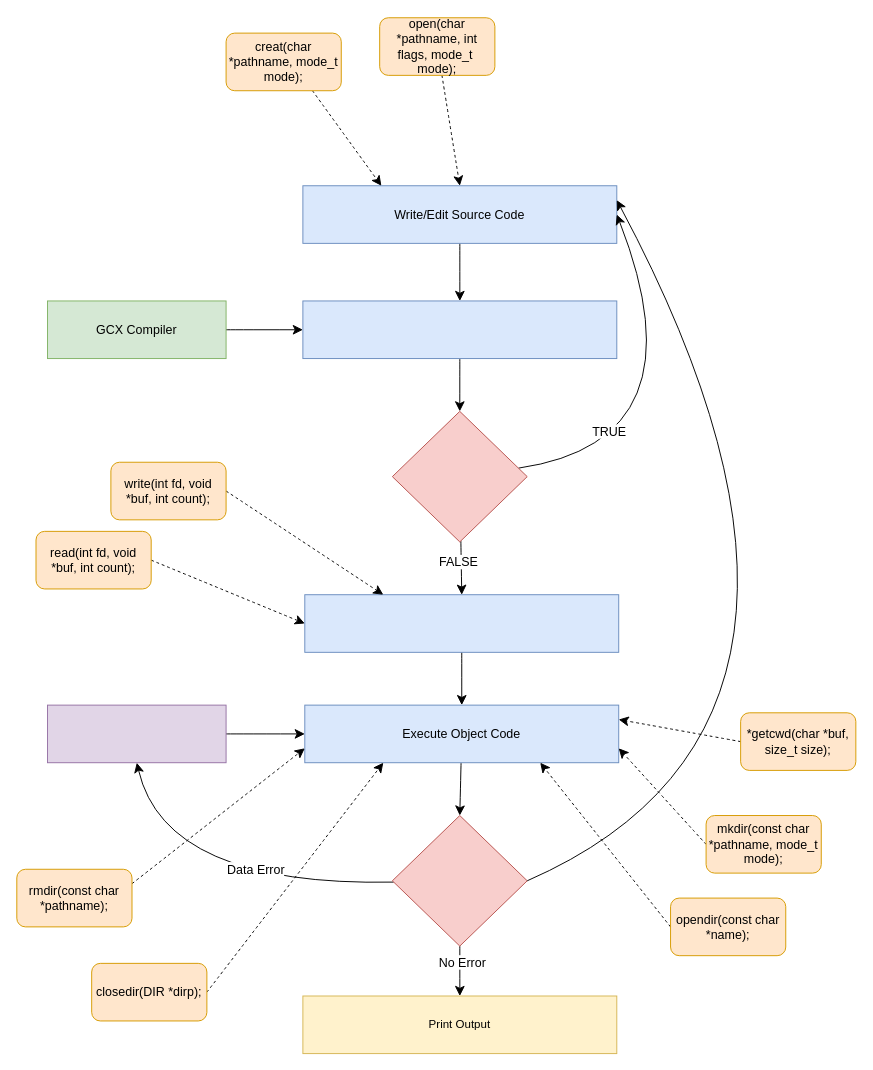
Some shapes in this 873 by 1070 pixel diagram are drawn without their labels. Each missing label, with the centre of its shape:
"Compile Source Code" goes at pixel 459 329.
"Input Data" goes at pixel 136 733.
"Linker & Loader" goes at pixel 461 623.
"Logic/Data Error?" goes at pixel 459 880.
"Syntax Error?" goes at pixel 459 476.
